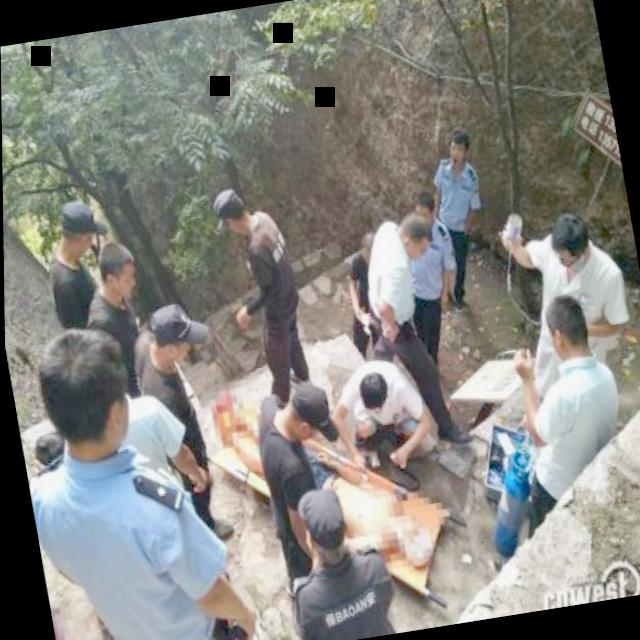Fall-Detected: (250, 406, 451, 605)
